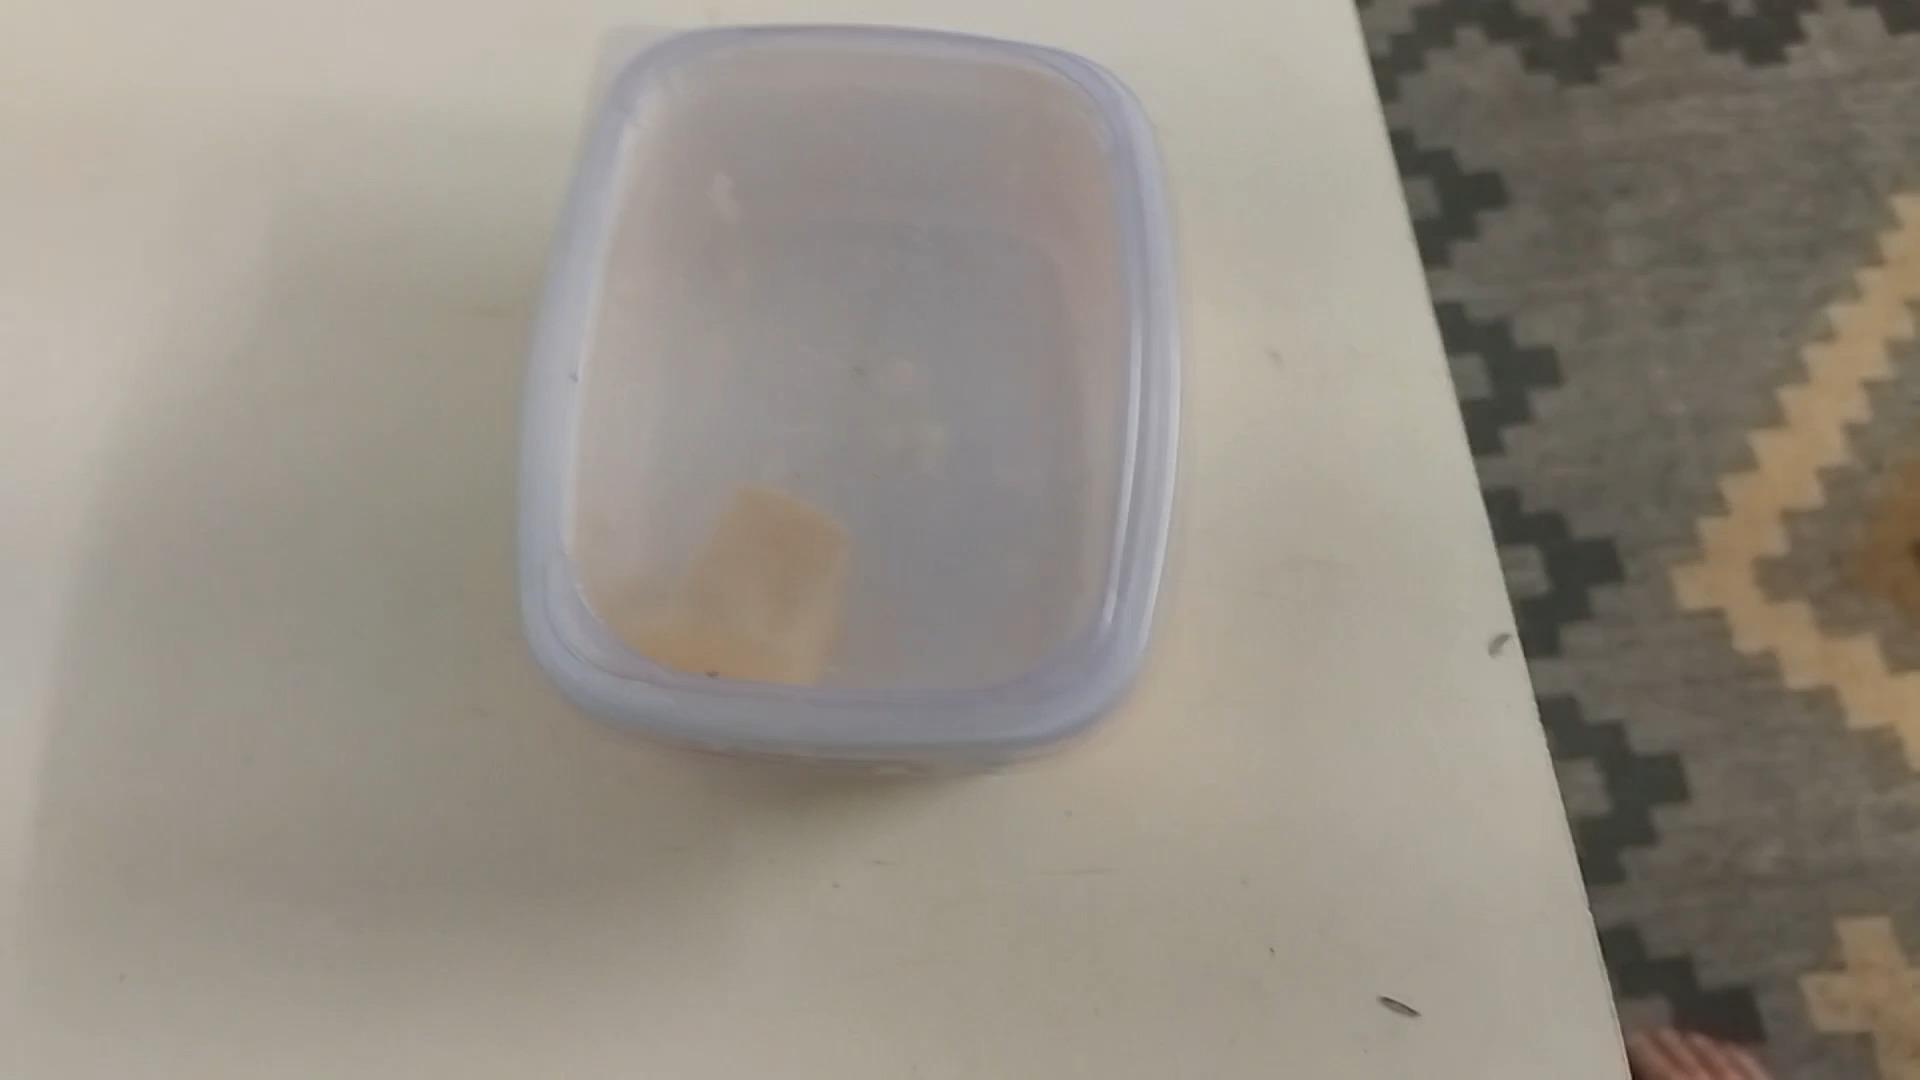butter: (518, 32, 1176, 777)
